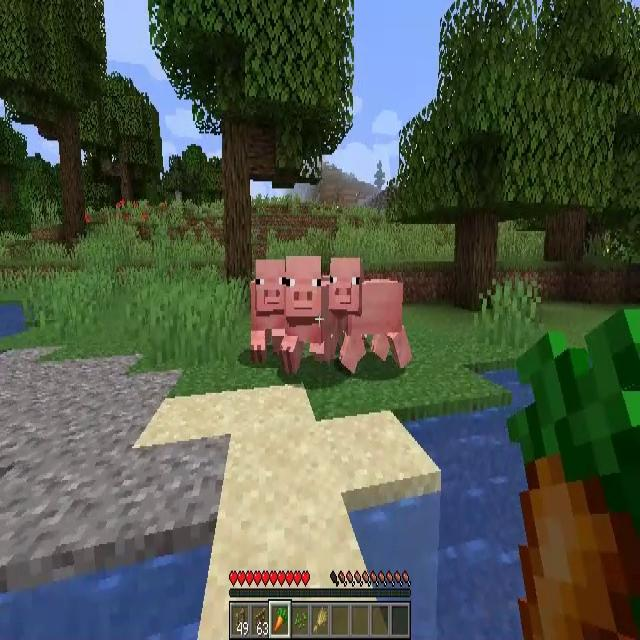pig: (329, 258, 410, 372), (283, 256, 334, 371), (252, 260, 288, 354)
